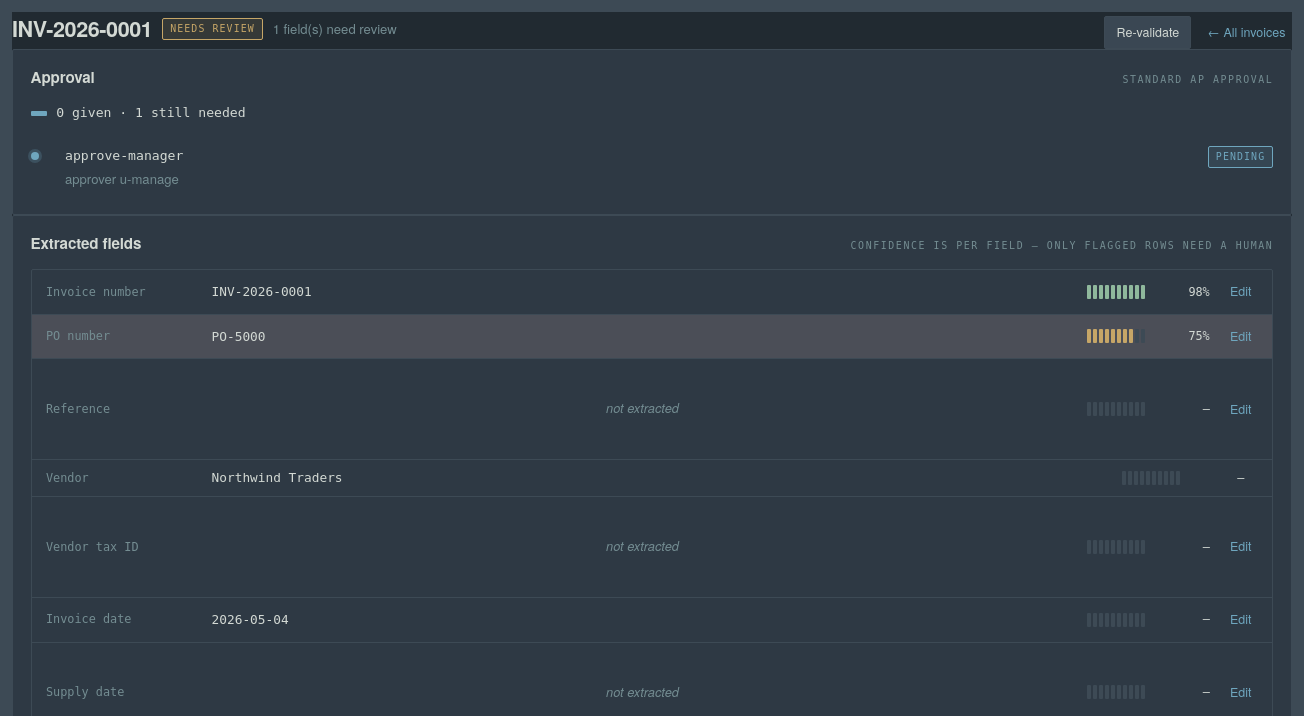
it: correcting a field › KEEPS THE EDIT OPEN AND EXPLAINS WHY WHEN THE CORRECTION IS REFUSED
This screenshot has width=1304, height=716.
Click the button "Edit" next to "75%".
click(1241, 336)  # box [1223,323,1258,350]
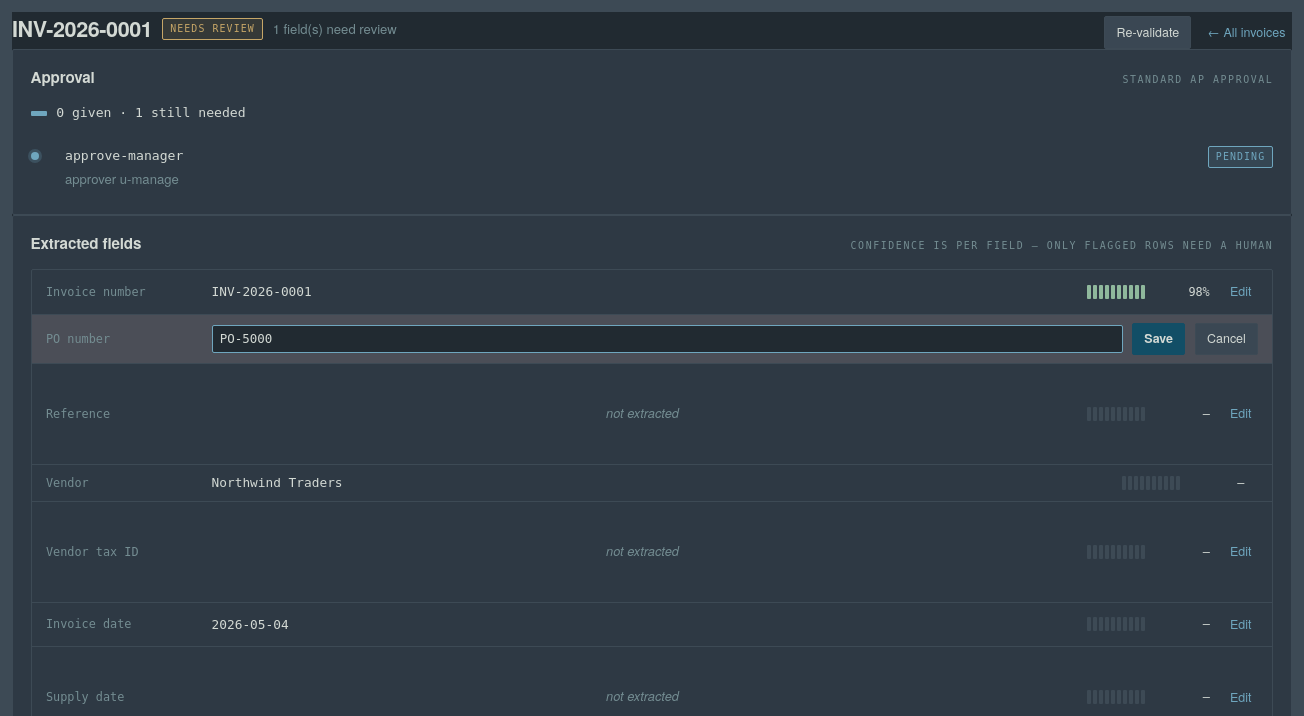
Replace the text in the field with "PO-9999" at (667, 339), box [212,325,1123,353]
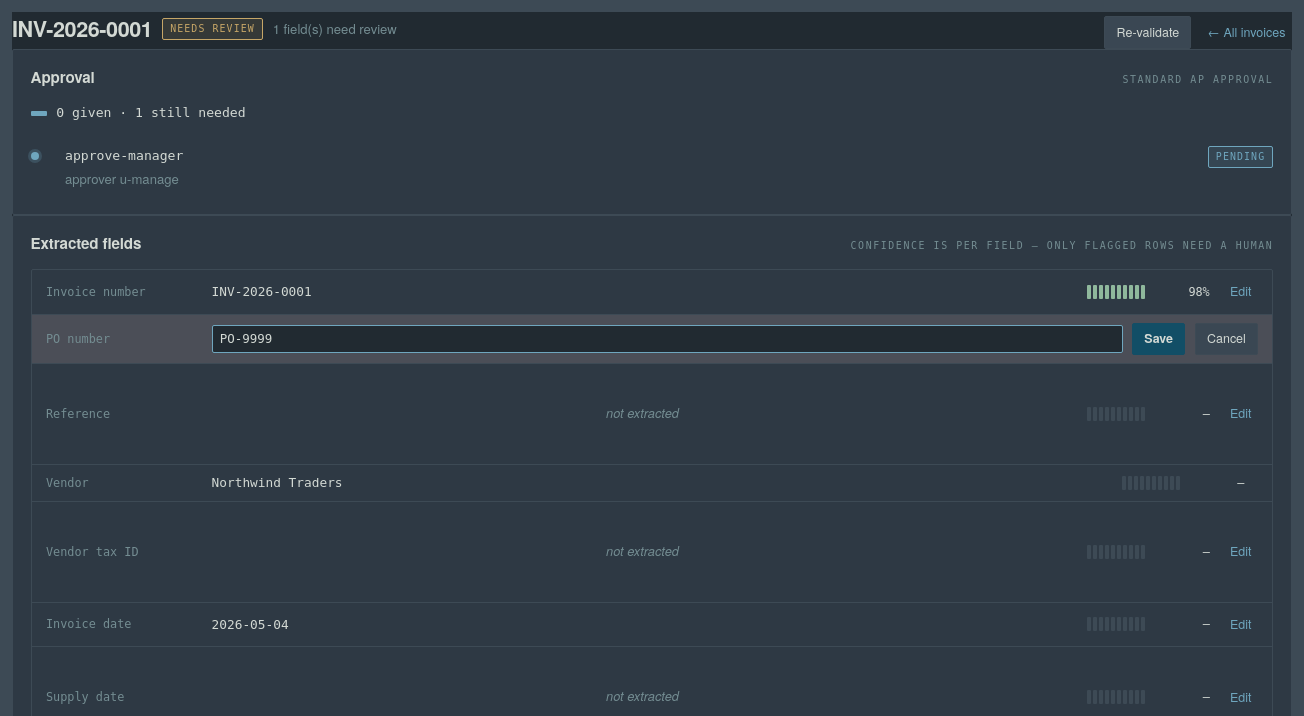
Click the button "Save".
click(1159, 339)  # box [1132,323,1185,355]
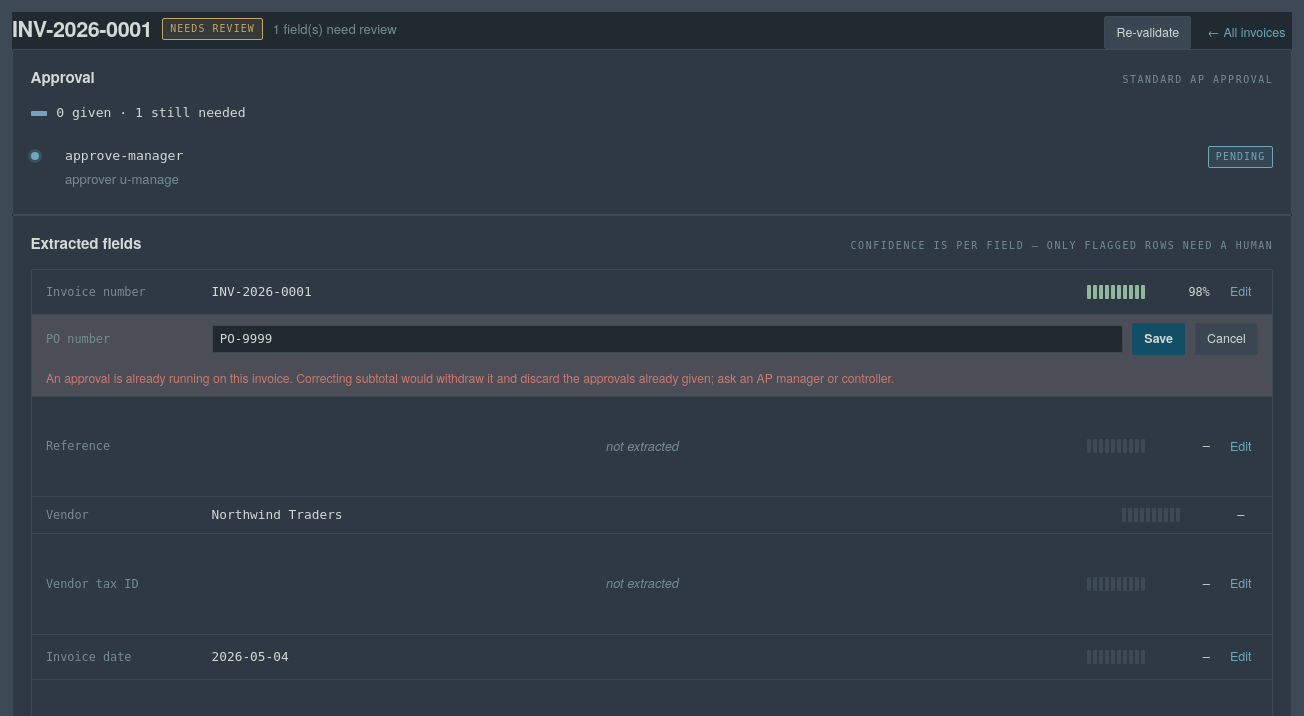
Now the text "discard the approvals already given" is shown, box [46,369,894,386]
